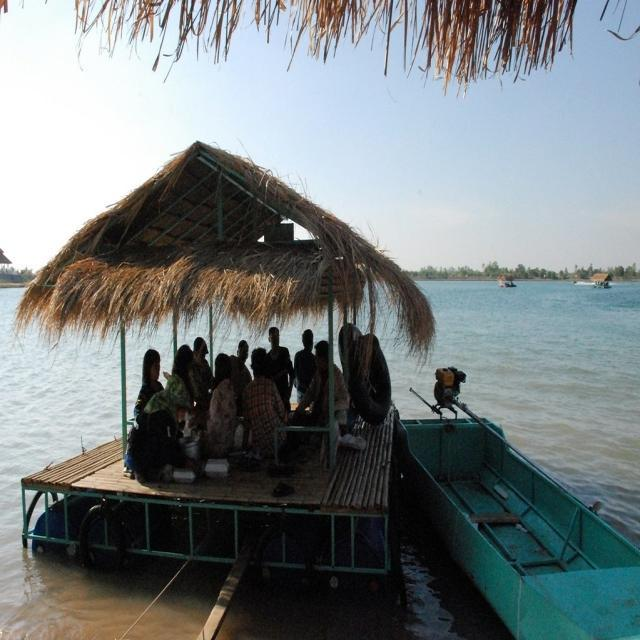Raft: (9, 140, 435, 590), (580, 269, 614, 291), (496, 266, 524, 288)
boat: (397, 387, 640, 640)
